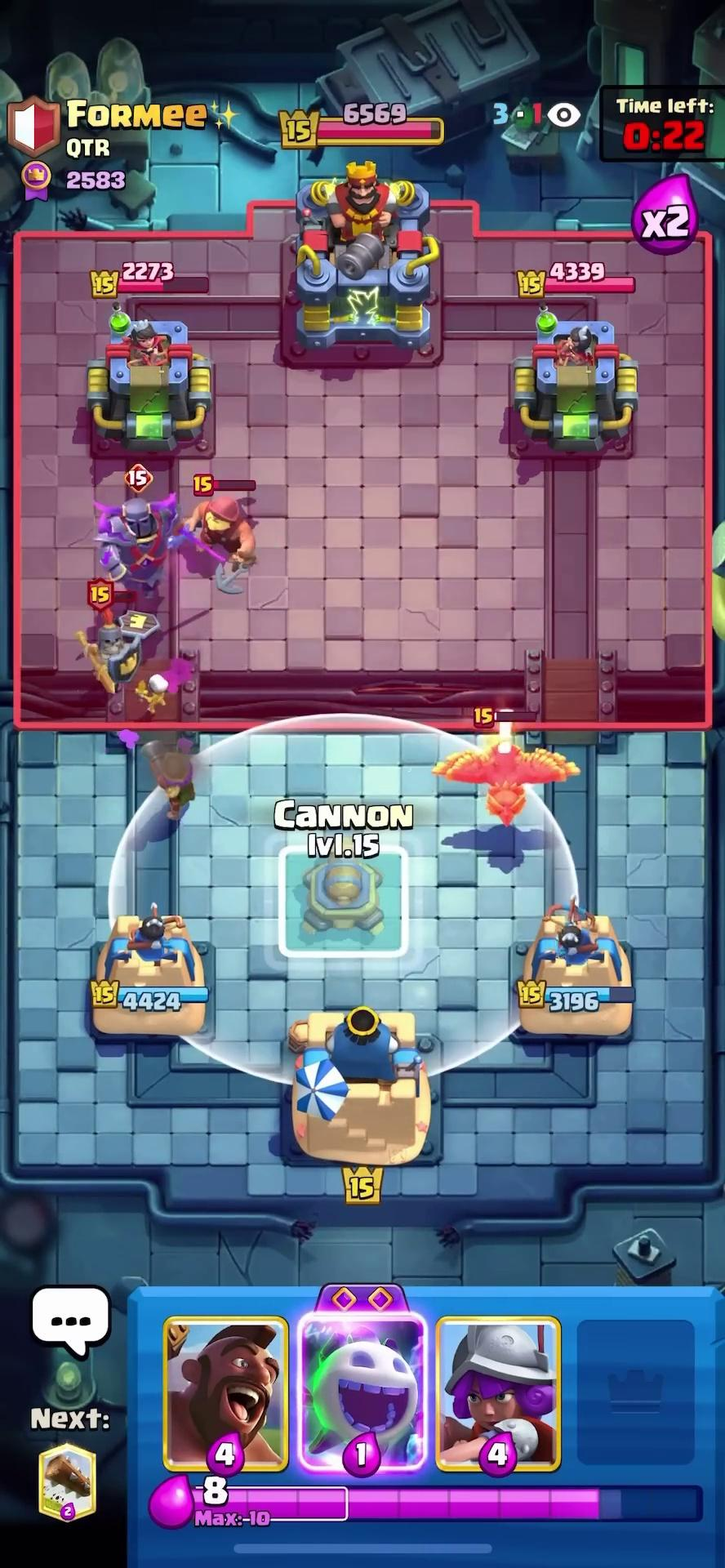musketeer: (133, 721, 216, 829)
skeletons: (120, 657, 180, 729)
